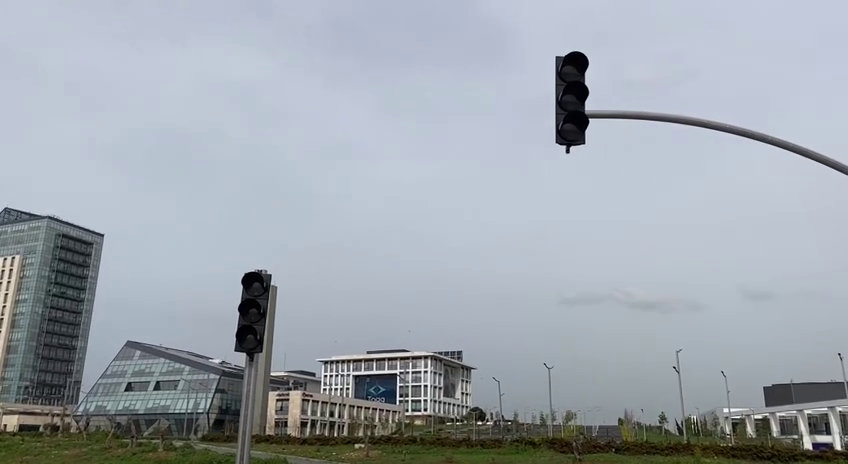trafficLight: (550, 48, 594, 156), (231, 264, 277, 361)
